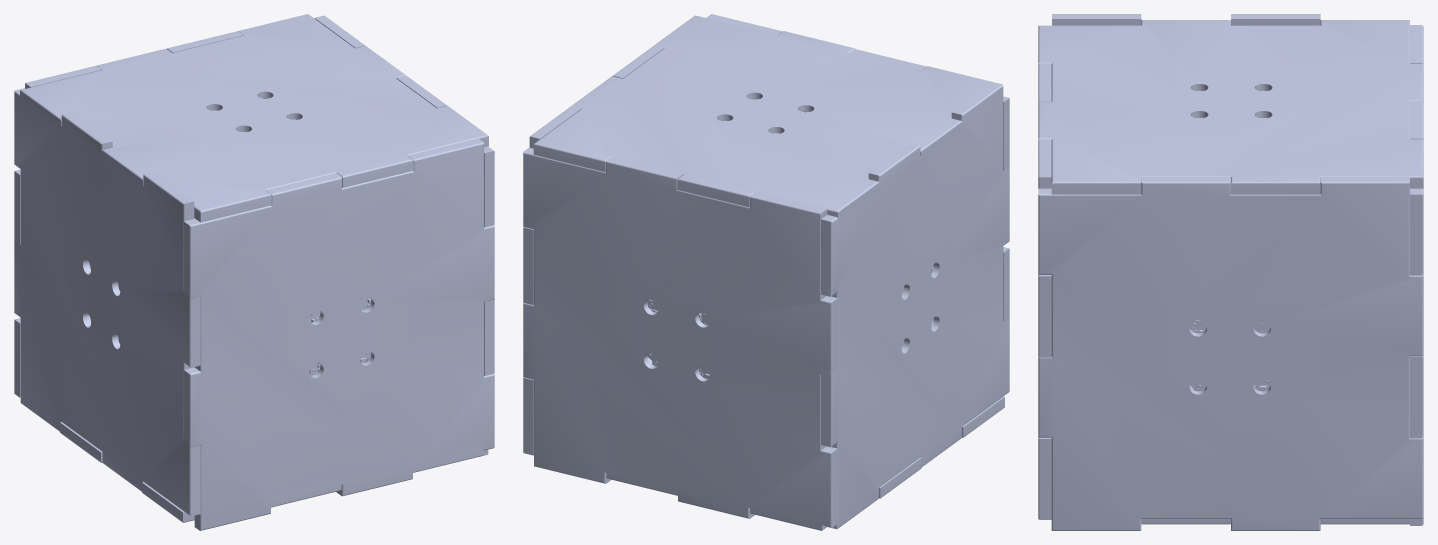
The picture shows the model from 3 angles, left to right: view 1: azimuth 30°, elevation 25°; view 2: azimuth 150°, elevation 25°; view 3: azimuth 270°, elevation 25°; orthographic projection. The views are drawn at different scales.
Parts seen in each view (by area): view 1: node0; view 2: node0; view 3: node0.
Part boxes in pixels (x1,y1,x2,y2): node0: (14,14,494,530); node0: (523,14,1009,530); node0: (1038,14,1423,530).
Bounding box in the file's own units: 0.0863 × 0.0877 × 0.086.
